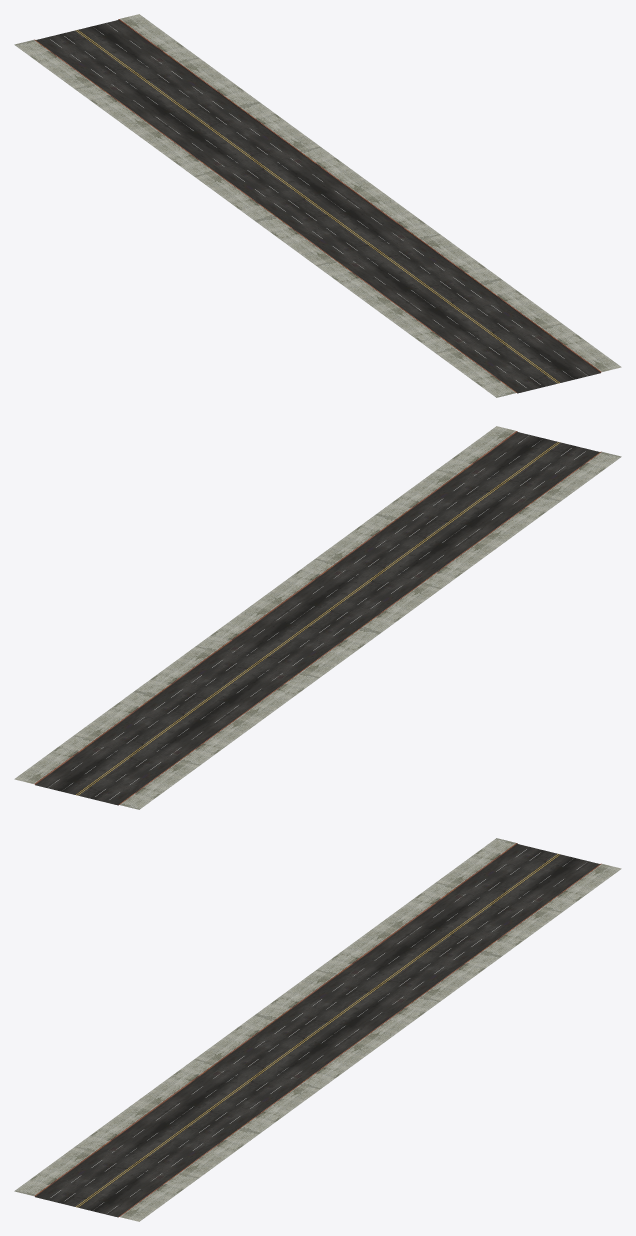
The picture shows the model from 3 angles, top to bottom: view 1: azimuth 30°, elevation 25°; view 2: azimuth 150°, elevation 25°; view 3: azimuth 330°, elevation 25°; orthographic projection.
Parts seen in each view (by area): view 1: road_03__0.002; view 2: road_03__0.002; view 3: road_03__0.002.
Part boxes in pixels (x1,y1,x2,y2): road_03__0.002: (14,14,621,397); road_03__0.002: (14,426,621,809); road_03__0.002: (14,838,621,1221).
Size of the model in its own units: 35.19 by 0.1968 by 235.
1 material, 1 textured.
